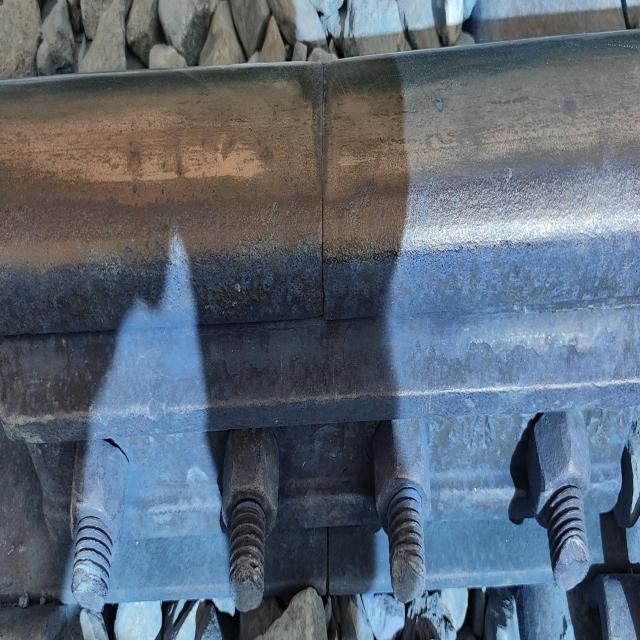Good Joint: (0, 241, 640, 610)
